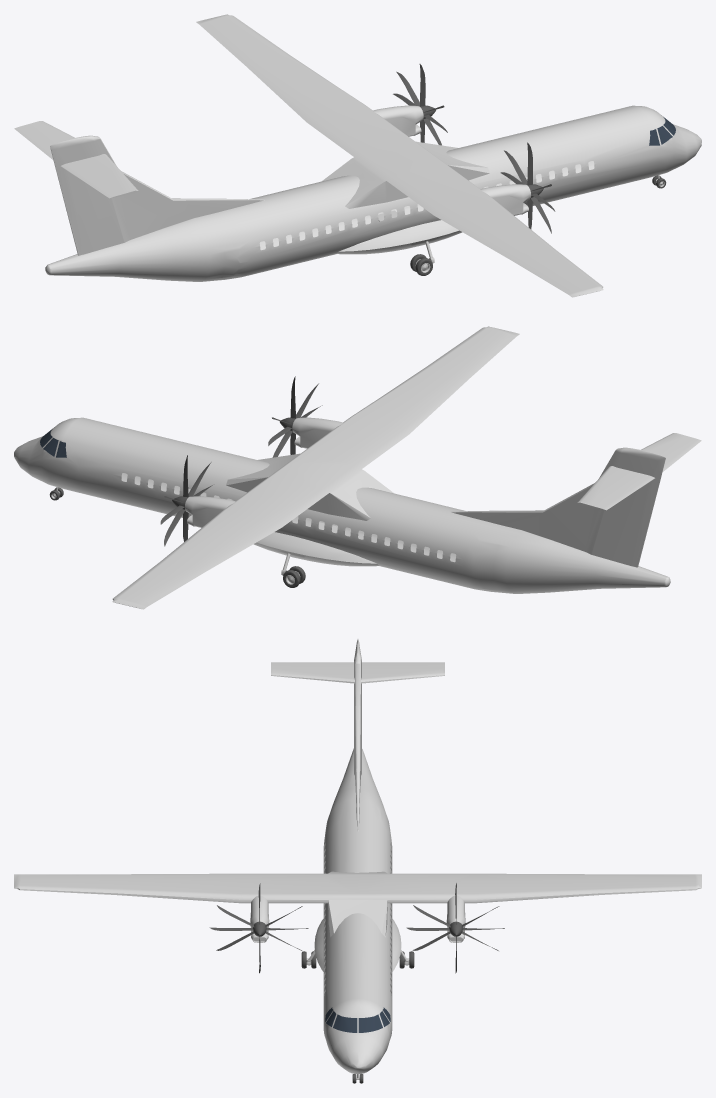
3 views of the same model, one above another, from view 1: azimuth 30°, elevation 25°; view 2: azimuth 150°, elevation 25°; view 3: azimuth 270°, elevation 25° (orthographic). The views are drawn at different scales.
Parts seen in each view (by area): view 1: body, spin (×2), trim; view 2: body, spin (×2), trim; view 3: body, spin (×2), glass, trim.
Part boxes in pixels (x1,y1,x2,y2): body: (14, 14, 701, 297); spin (×2): (393, 64, 555, 233); trim: (410, 105, 666, 275); body: (14, 326, 701, 609); spin (×2): (160, 376, 322, 546); trim: (49, 417, 305, 587); body: (14, 639, 701, 1079); spin (×2): (209, 883, 504, 973); glass: (325, 1007, 390, 1032); trim: (252, 921, 463, 1083).
Bounding box in the file's own units: 2.2 × 0.6221 × 2.19.
